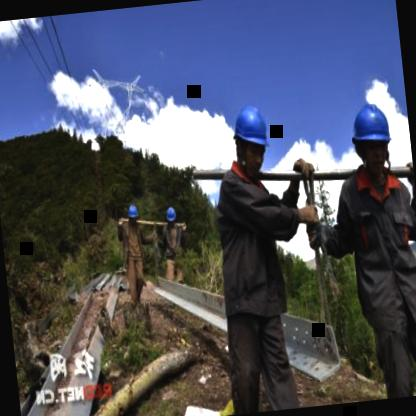helmet: (346, 98, 398, 183), (228, 96, 276, 180), (160, 202, 180, 228), (124, 200, 141, 228)
